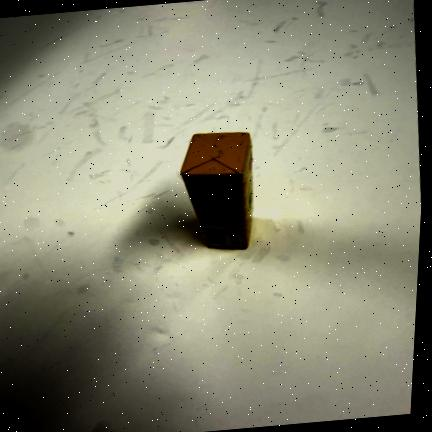gum_yellow: (179, 132, 254, 250)
